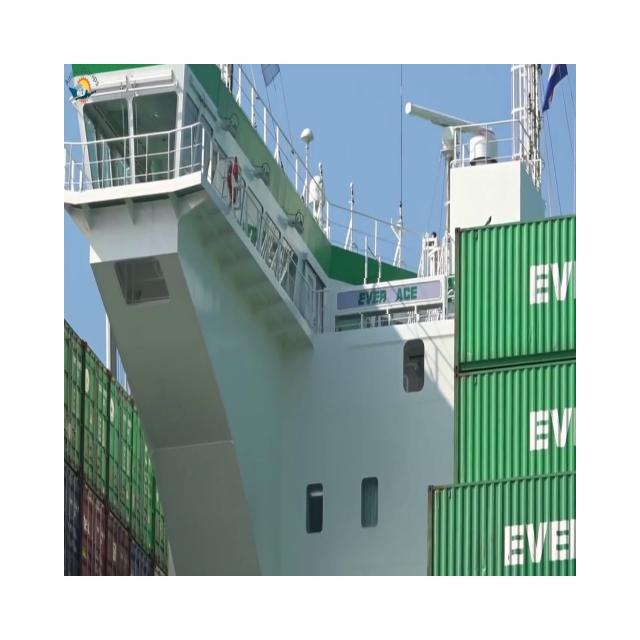OCR: (347, 266, 425, 314)
